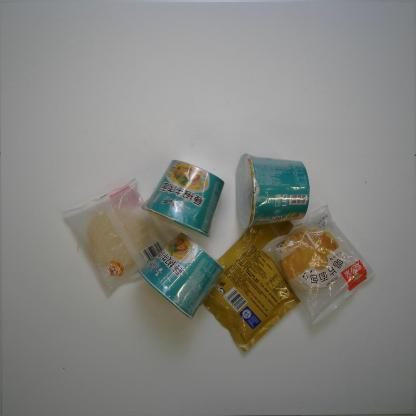Dessert: (58, 174, 178, 302), (260, 204, 379, 333)
Dried Fruit: (192, 202, 346, 354)
Instant Noodles: (134, 231, 227, 321), (139, 155, 227, 240), (232, 152, 310, 231)
